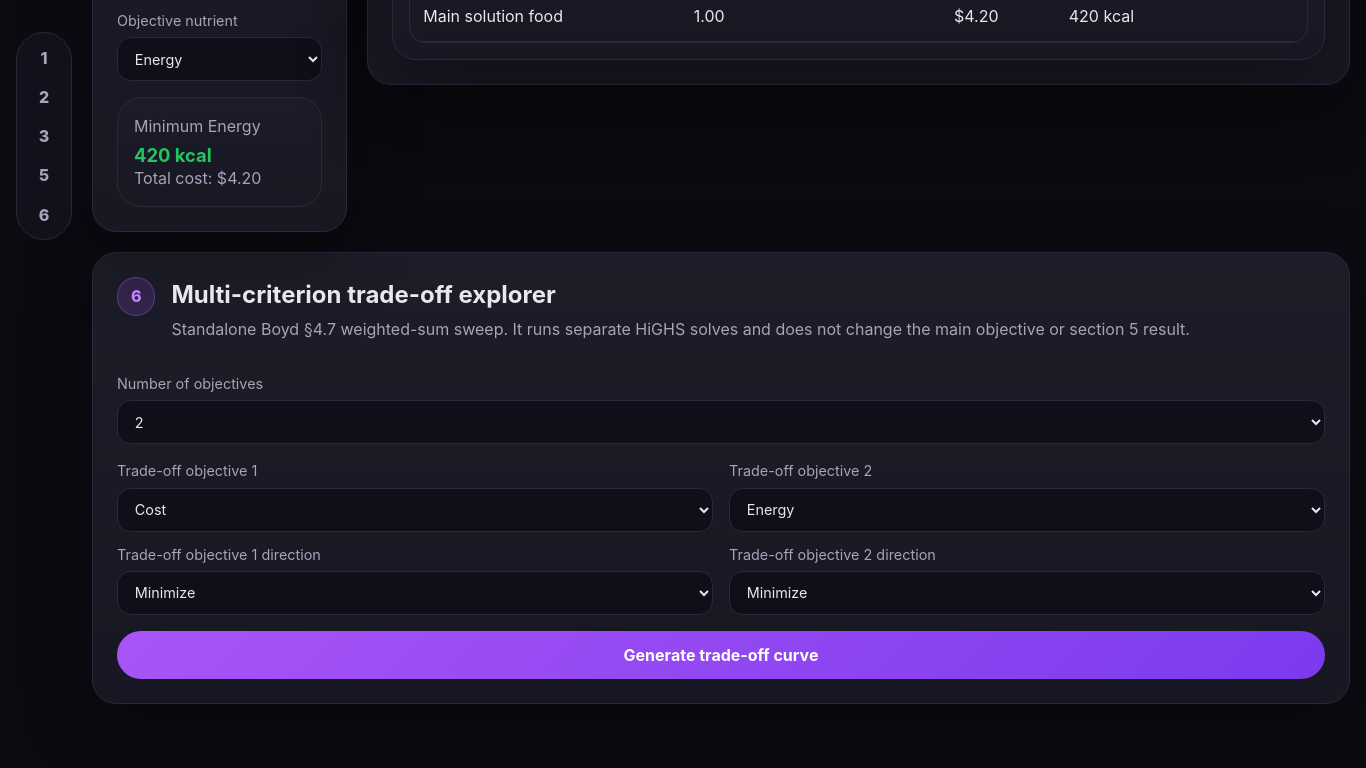
Test: DietOptimizer trade-off explorer › runs the two-objective sweep on demand, displays the local Pareto details, and does not re-solve or overwrite the main result state
(page scrolled)
Select "Protein" in the dropdown labelled "Trade-off objective 1" at (415, 510), box [117,488,713,532]
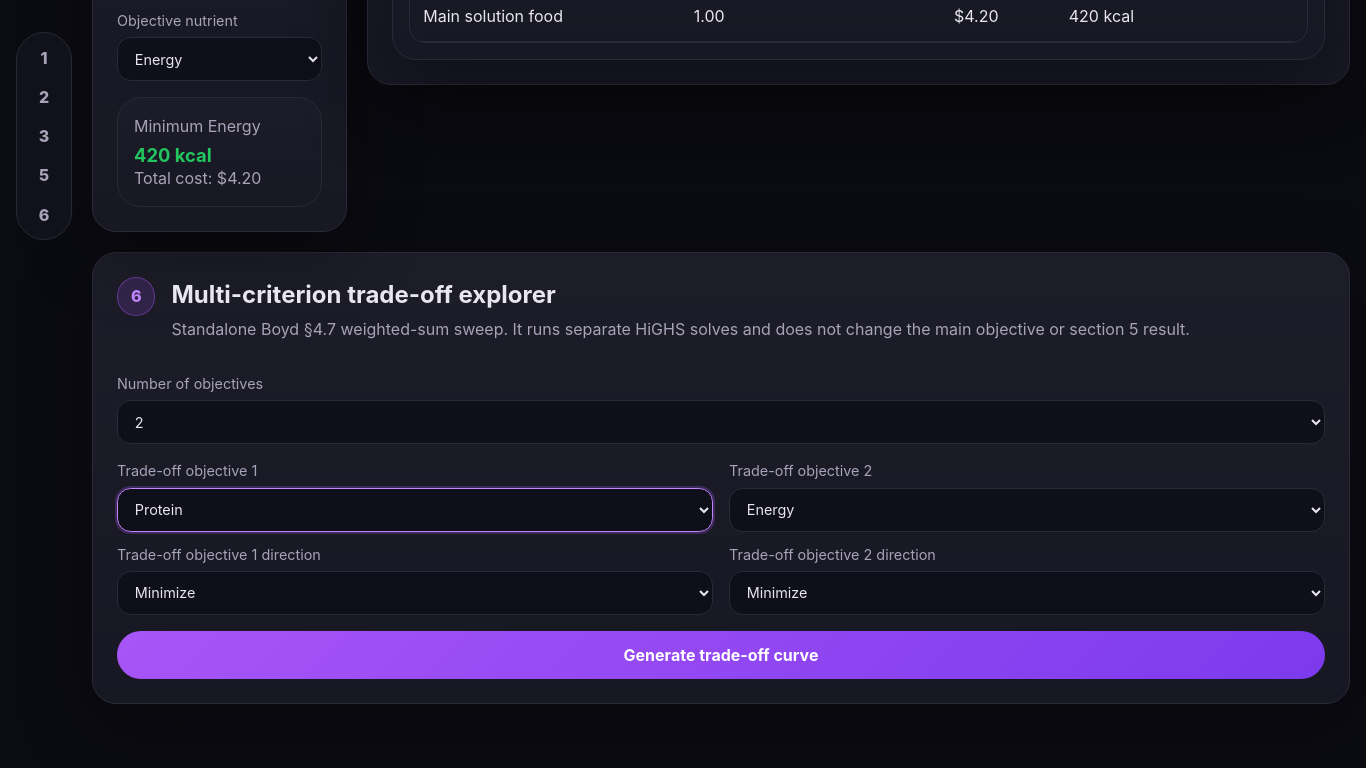
Select "Maximize" in the dropdown labelled "Trade-off objective 1 direction" at (415, 593), box [117,571,713,615]
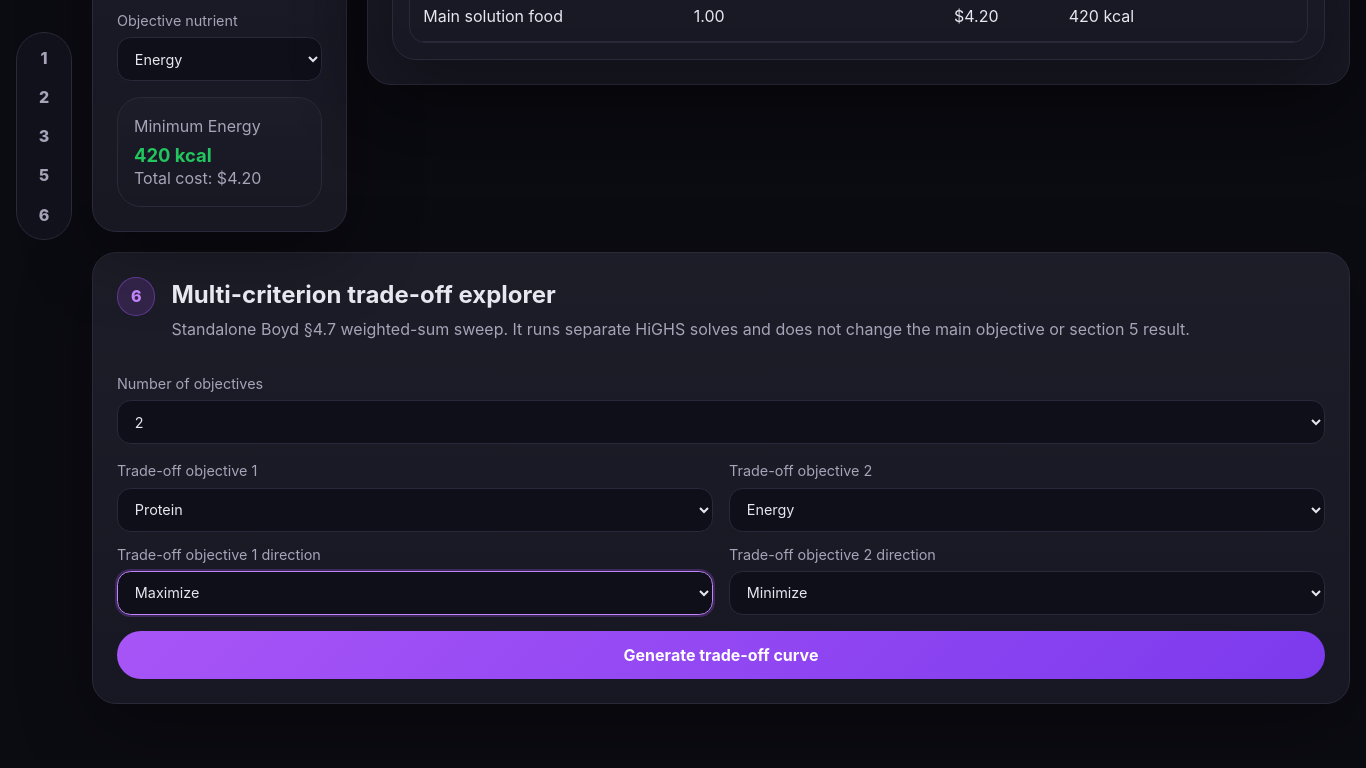
Select "Energy" in the dropdown labelled "Trade-off objective 2" at (1027, 510), box [729,488,1325,532]
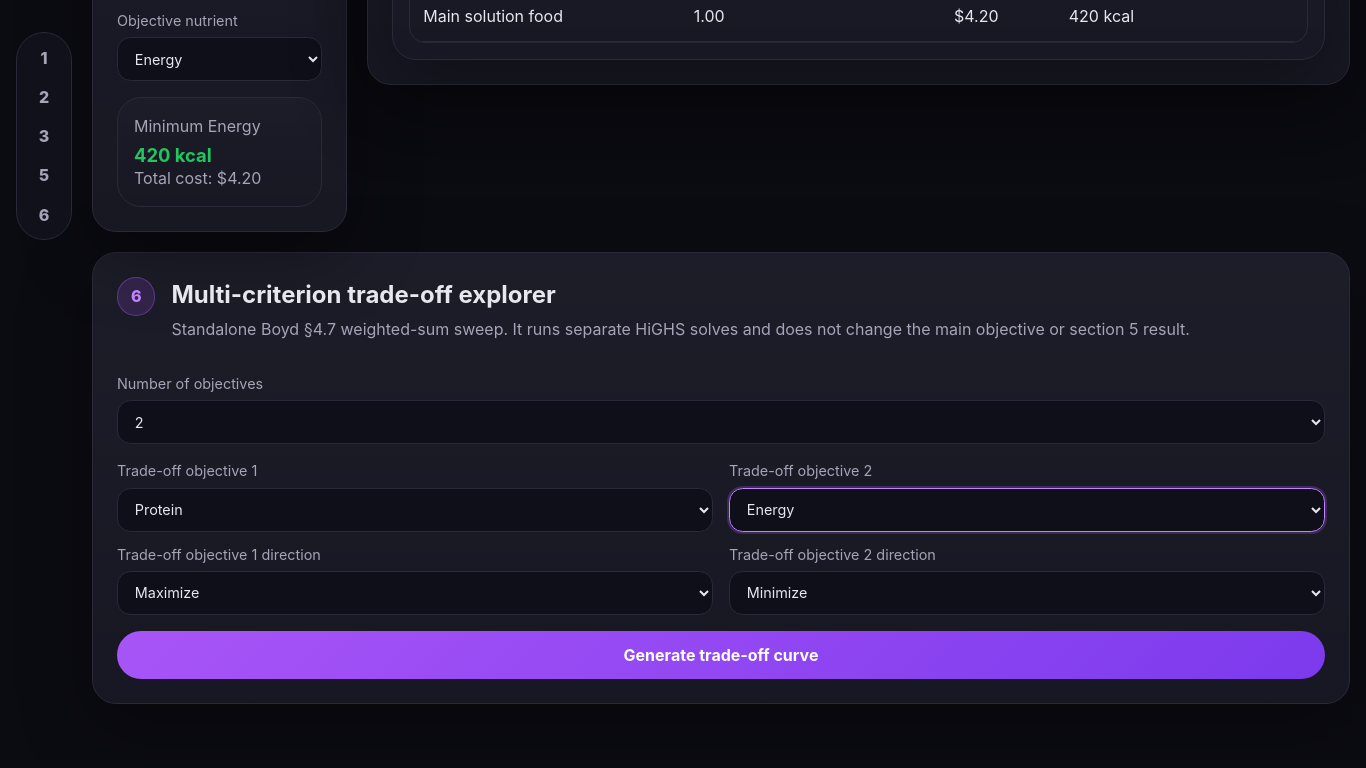
Select "Minimize" in the dropdown labelled "Trade-off objective 2 direction" at (1027, 593), box [729,571,1325,615]
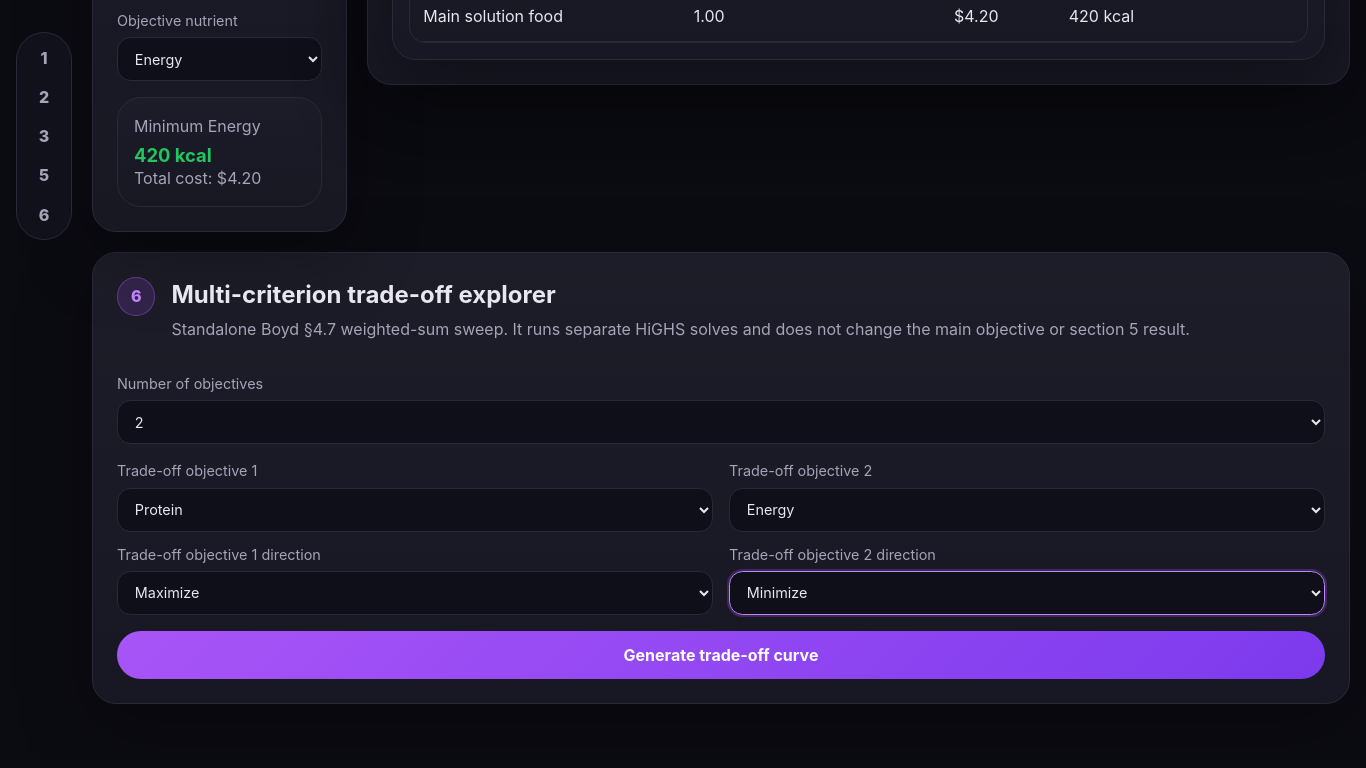
Click the button "Generate trade-off curve".
click(721, 655)  # box [117,631,1325,679]
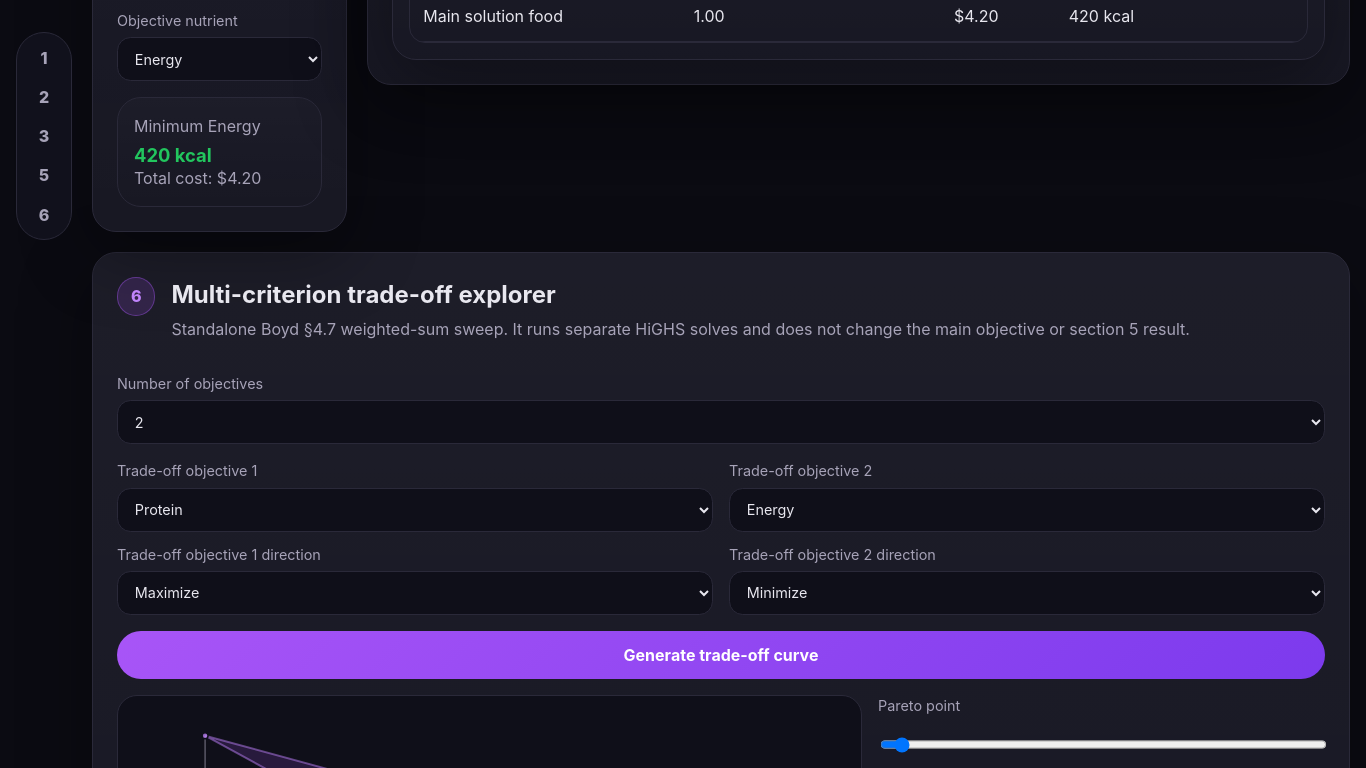
Set the slider labelled "Pareto point" to "1" at (1319, 745), box [880,724,1327,765]
(page scrolled)
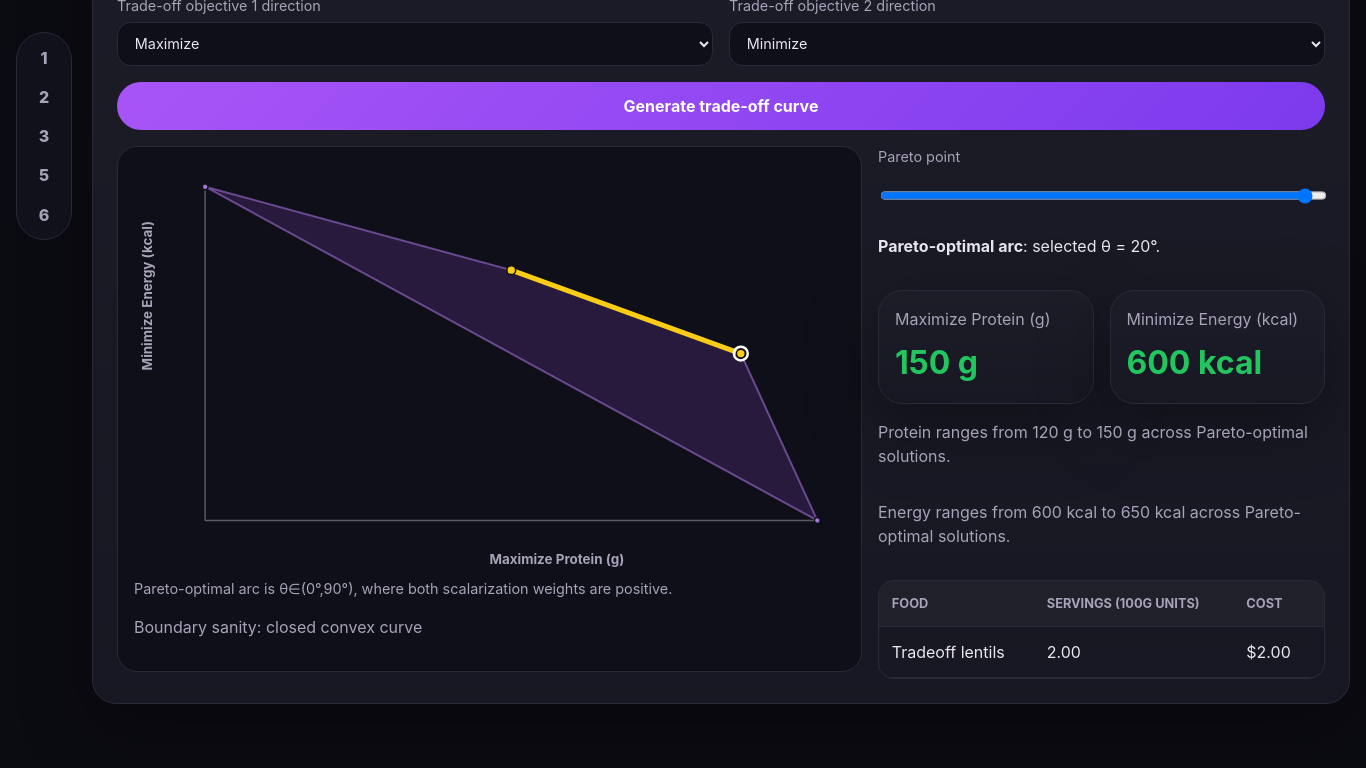
Now the text "Tradeoff lentils" is shown, box [879,626,1034,677]
